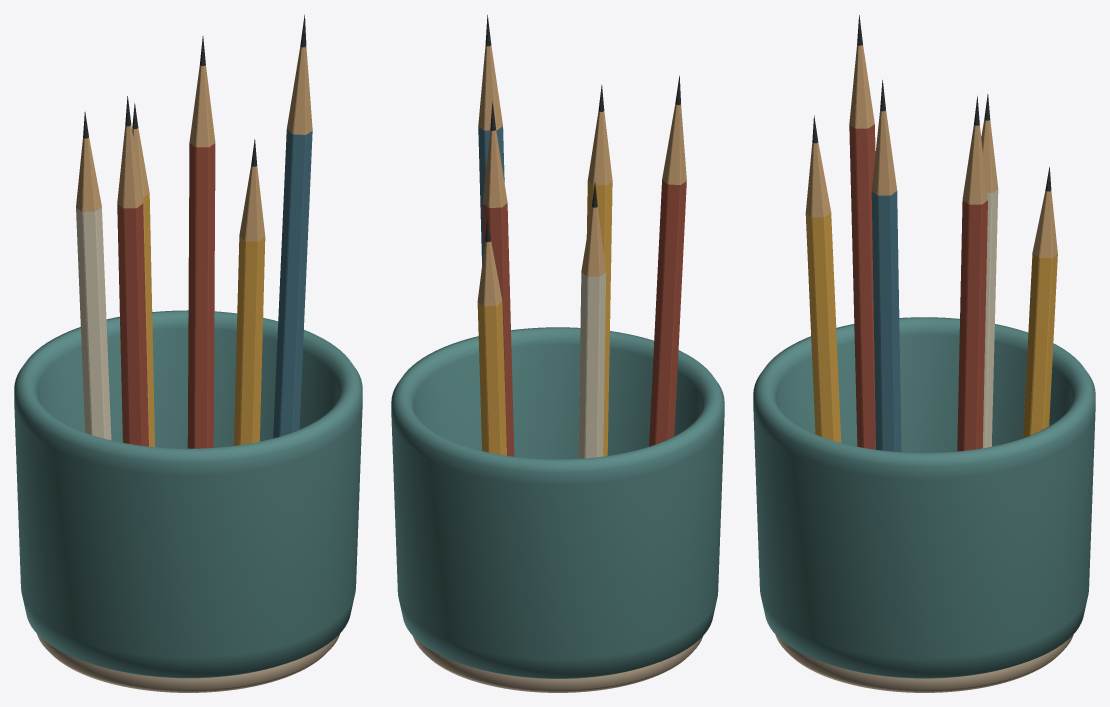
Rendered from desk_stationery_v16.glb.
The picture shows the model from 3 angles, left to right: view 1: azimuth 30°, elevation 25°; view 2: azimuth 150°, elevation 25°; view 3: azimuth 270°, elevation 25°; orthographic projection. The views are drawn at different scales.
Parts seen in each view (by area): view 1: Hollow glazed pencil cup, Desk pencil 02, Desk pencil 04, Desk pencil 00, Desk pencil 03, Desk pencil 01, Unglazed foot ring, Desk pencil 05; view 2: Hollow glazed pencil cup, Desk pencil 00, Desk pencil 03, Desk pencil 05, Desk pencil 04, Unglazed foot ring, Desk pencil 01, Desk pencil 02; view 3: Hollow glazed pencil cup, Desk pencil 00, Desk pencil 02, Desk pencil 04, Desk pencil 01, Desk pencil 05, Unglazed foot ring, Desk pencil 03.
Boxes of the visible parts, x1,y1,x2,y2 form: Hollow glazed pencil cup: (14, 310, 362, 678); Desk pencil 02: (273, 14, 312, 438); Desk pencil 04: (187, 36, 215, 448); Desk pencil 00: (117, 96, 148, 446); Desk pencil 03: (76, 111, 111, 440); Desk pencil 01: (233, 139, 265, 445); Unglazed foot ring: (36, 633, 340, 692); Desk pencil 05: (132, 103, 154, 447); Hollow glazed pencil cup: (391, 327, 724, 678); Desk pencil 00: (649, 75, 686, 446); Desk pencil 03: (578, 182, 606, 458); Desk pencil 05: (477, 218, 506, 455); Desk pencil 04: (482, 102, 514, 456); Unglazed foot ring: (413, 636, 702, 692); Desk pencil 01: (586, 84, 612, 456); Desk pencil 02: (478, 15, 504, 265); Hollow glazed pencil cup: (753, 317, 1095, 678); Desk pencil 00: (849, 15, 875, 449); Desk pencil 02: (871, 80, 901, 452); Desk pencil 04: (957, 96, 987, 451); Desk pencil 01: (805, 115, 841, 442); Desk pencil 05: (1023, 167, 1057, 438); Unglazed foot ring: (775, 635, 1073, 692); Desk pencil 03: (981, 94, 998, 448).
Size of the model in its own units: 0.364 by 0.7015 by 0.364.
